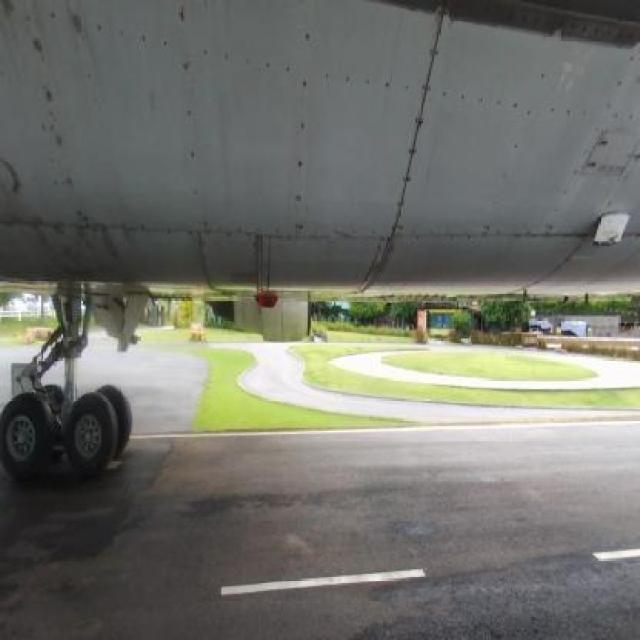Missing-Rivet: (96, 218, 370, 262), (31, 35, 86, 220), (538, 50, 638, 136), (171, 5, 207, 226), (481, 0, 637, 45), (407, 223, 587, 257), (43, 8, 172, 54), (419, 78, 535, 124), (294, 27, 314, 231), (384, 122, 422, 225), (482, 136, 526, 224), (200, 43, 292, 82), (320, 63, 411, 100), (548, 149, 592, 223)
Scartch: (16, 214, 130, 280), (29, 34, 48, 64), (73, 15, 87, 53), (40, 80, 55, 114), (53, 125, 67, 153), (62, 174, 76, 198)
